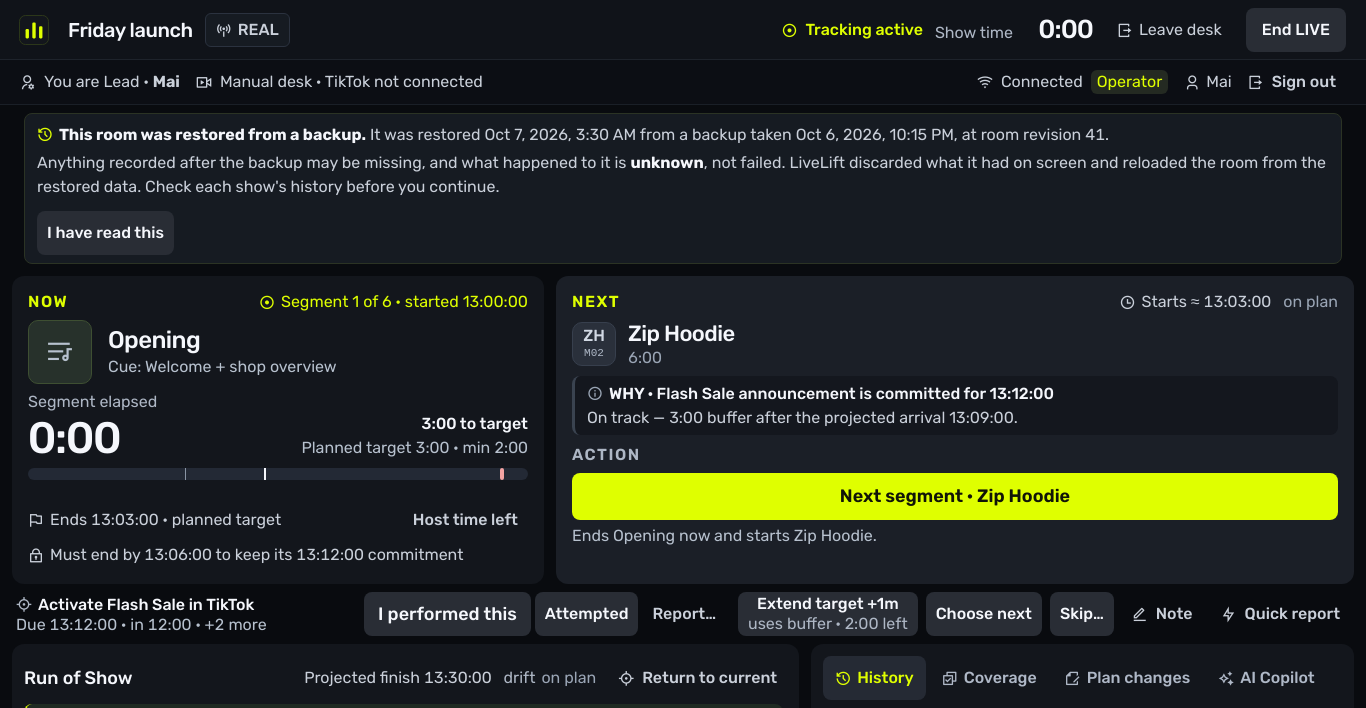
restore: notice and quarantine on screen › shows the restore time, the backup time and the backup revision, warns about newer commands, and never says failed
This screenshot has width=1366, height=708.
Expected: the element with test id "recovery-notice" shows "This room was restored from a backup.", left=59, top=125, right=366, bottom=144
Expected: the text with test id "recovery-revision" reads "41", left=1085, top=125, right=1105, bottom=144
Click the button with test id "recovery-dismiss-btn".
click(106, 233)  # box left=37, top=211, right=174, bottom=255
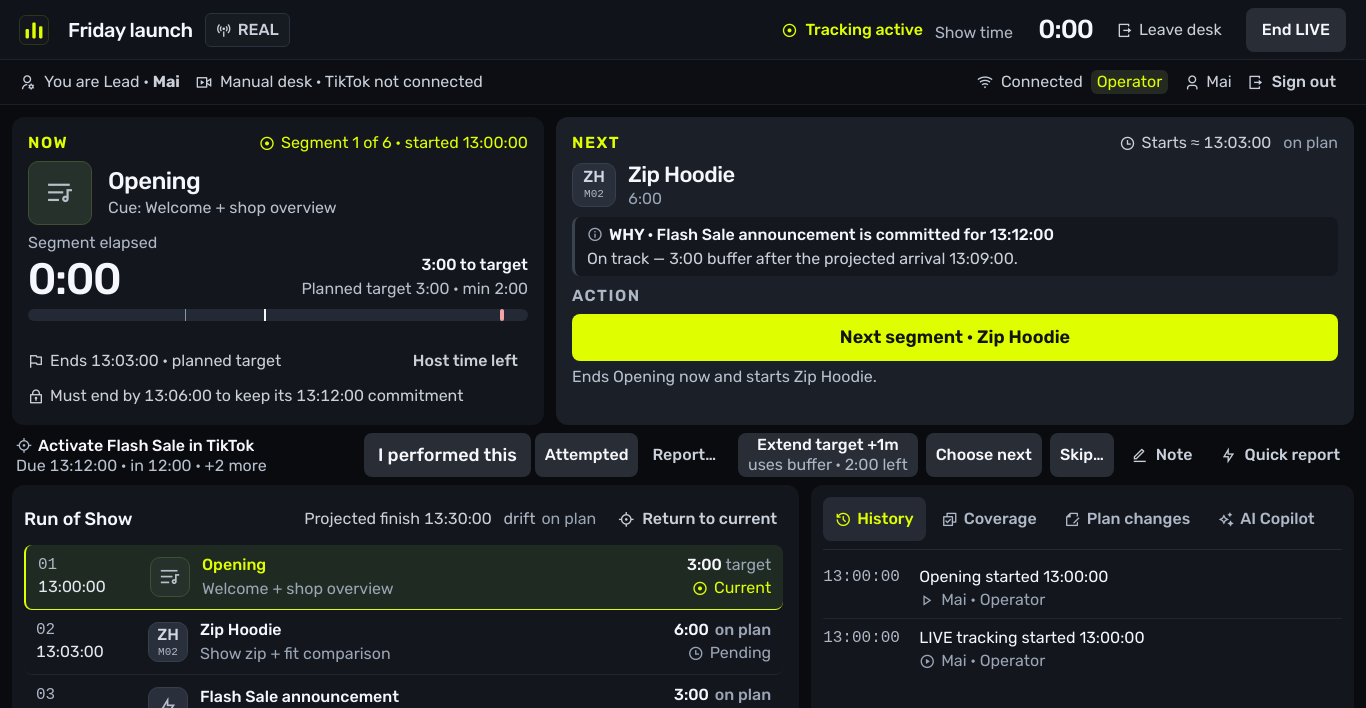
Now the element with test id "recovery-notice" is gone
